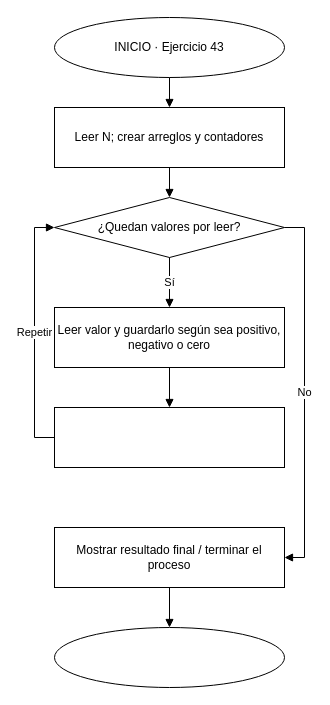
The diagram is 330 pixels wide and 705 high, and some of its shapes have lost their labels. The shapes that lost their labels are listed below. From the top down, each one's centre as x and y in pixels, then its label:
At (x=169, y=437): "Avanzar al siguiente valor".
At (x=169, y=657): "FIN".
